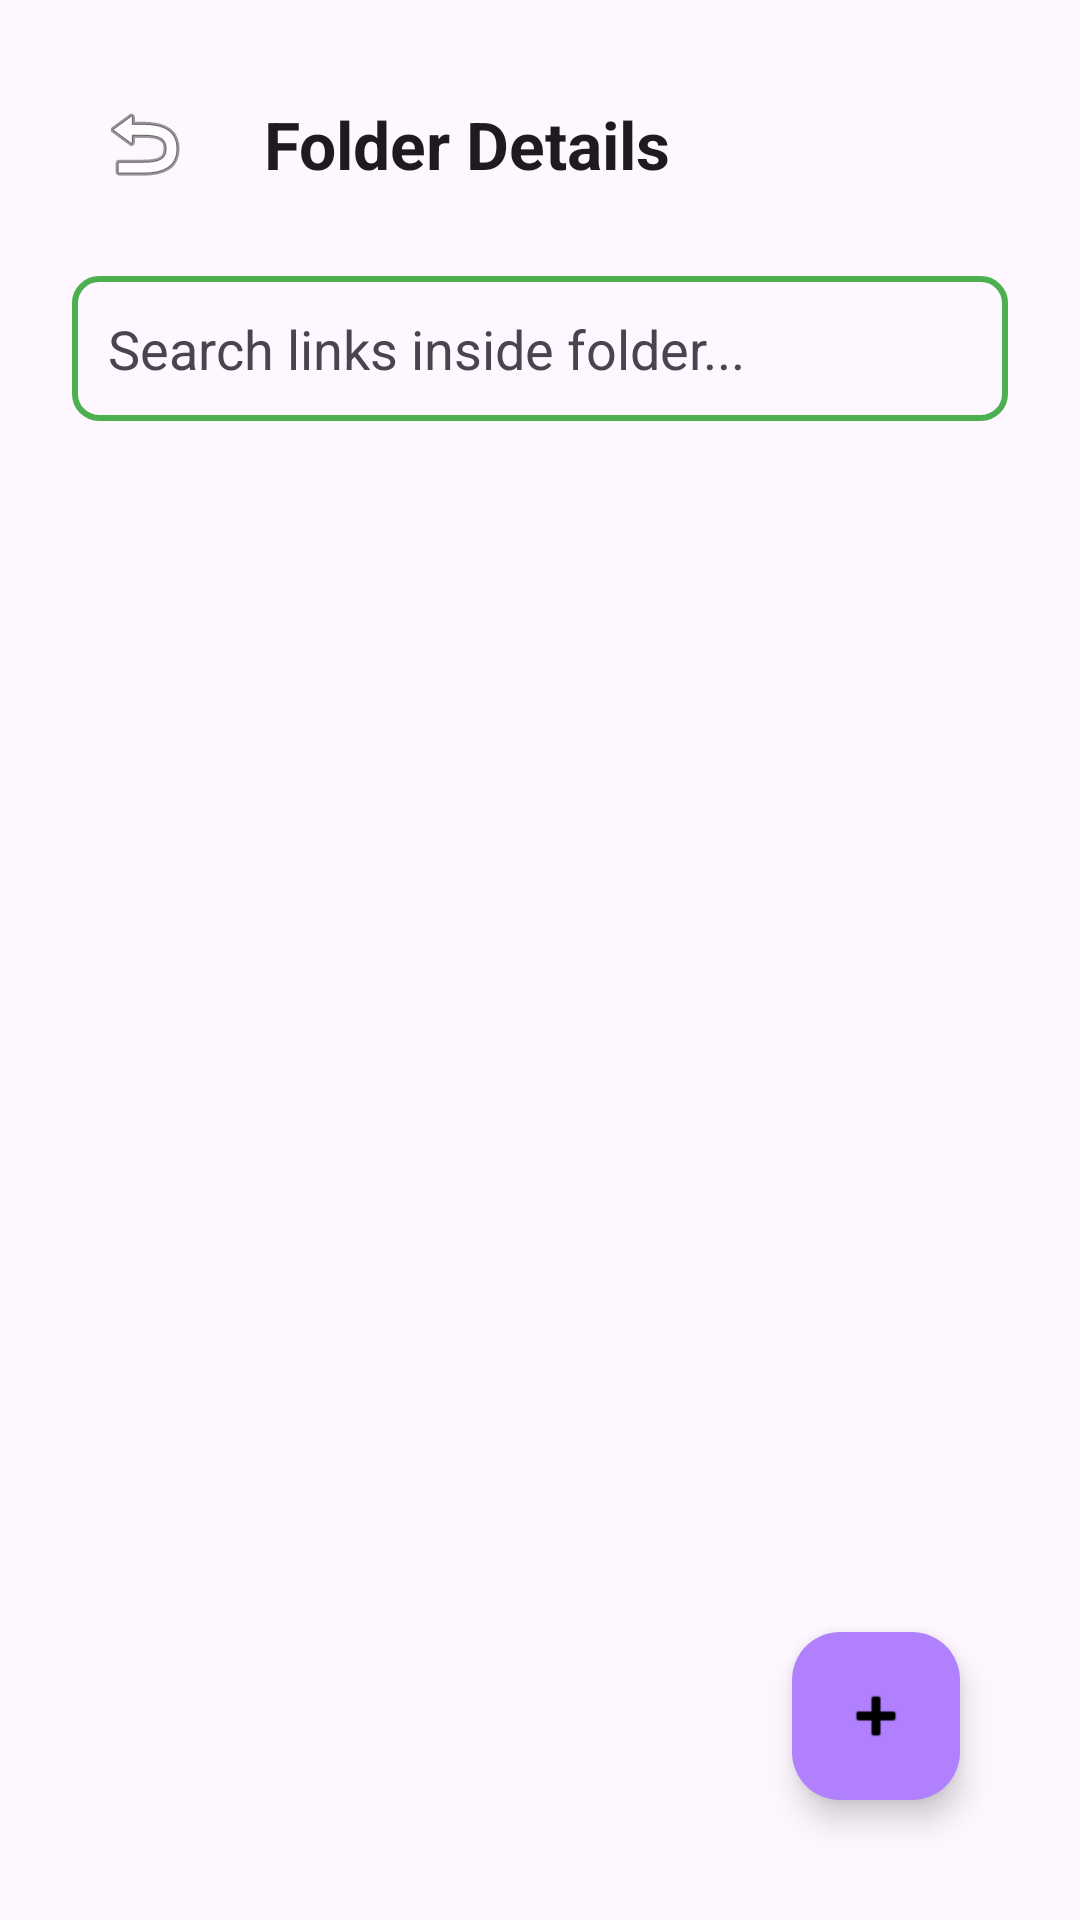

Icons on this 1080 × 1920 Android screen, each with its box as (x1, y1, x2, y2):
Add New Link: (792, 1632, 960, 1800)
Go Back: (111, 113, 180, 176)
